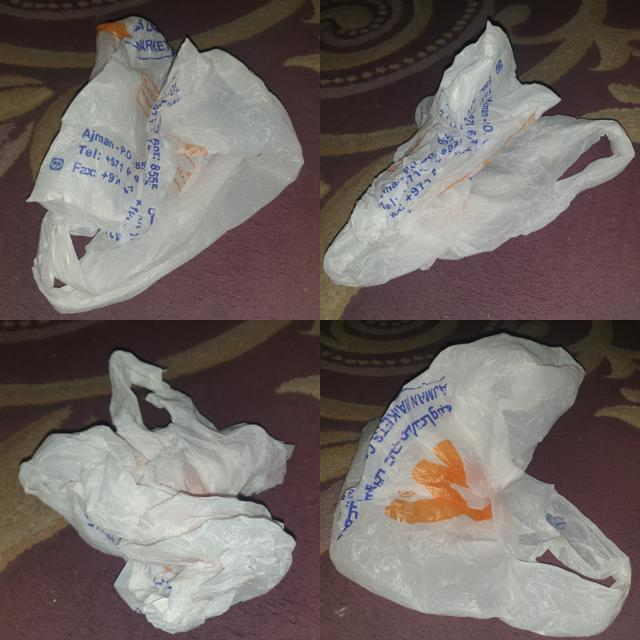Single-layer Plastic: (330, 334, 630, 636), (325, 22, 634, 286), (29, 16, 304, 312), (19, 350, 295, 632)
